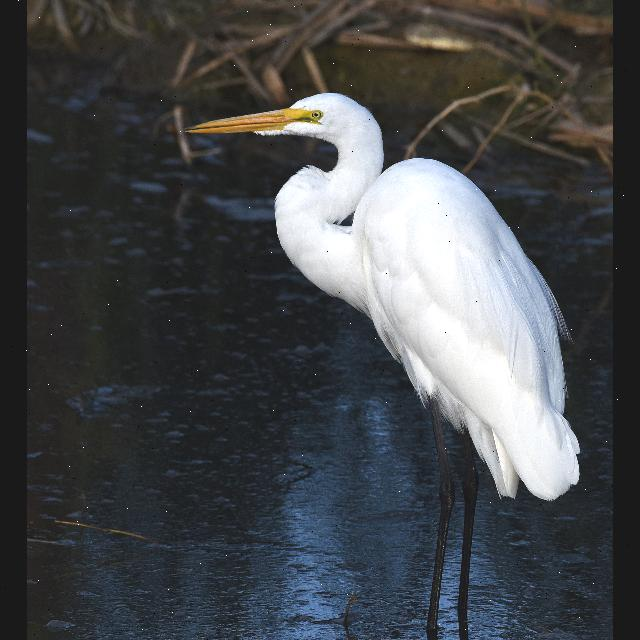egret: (189, 88, 583, 640)
